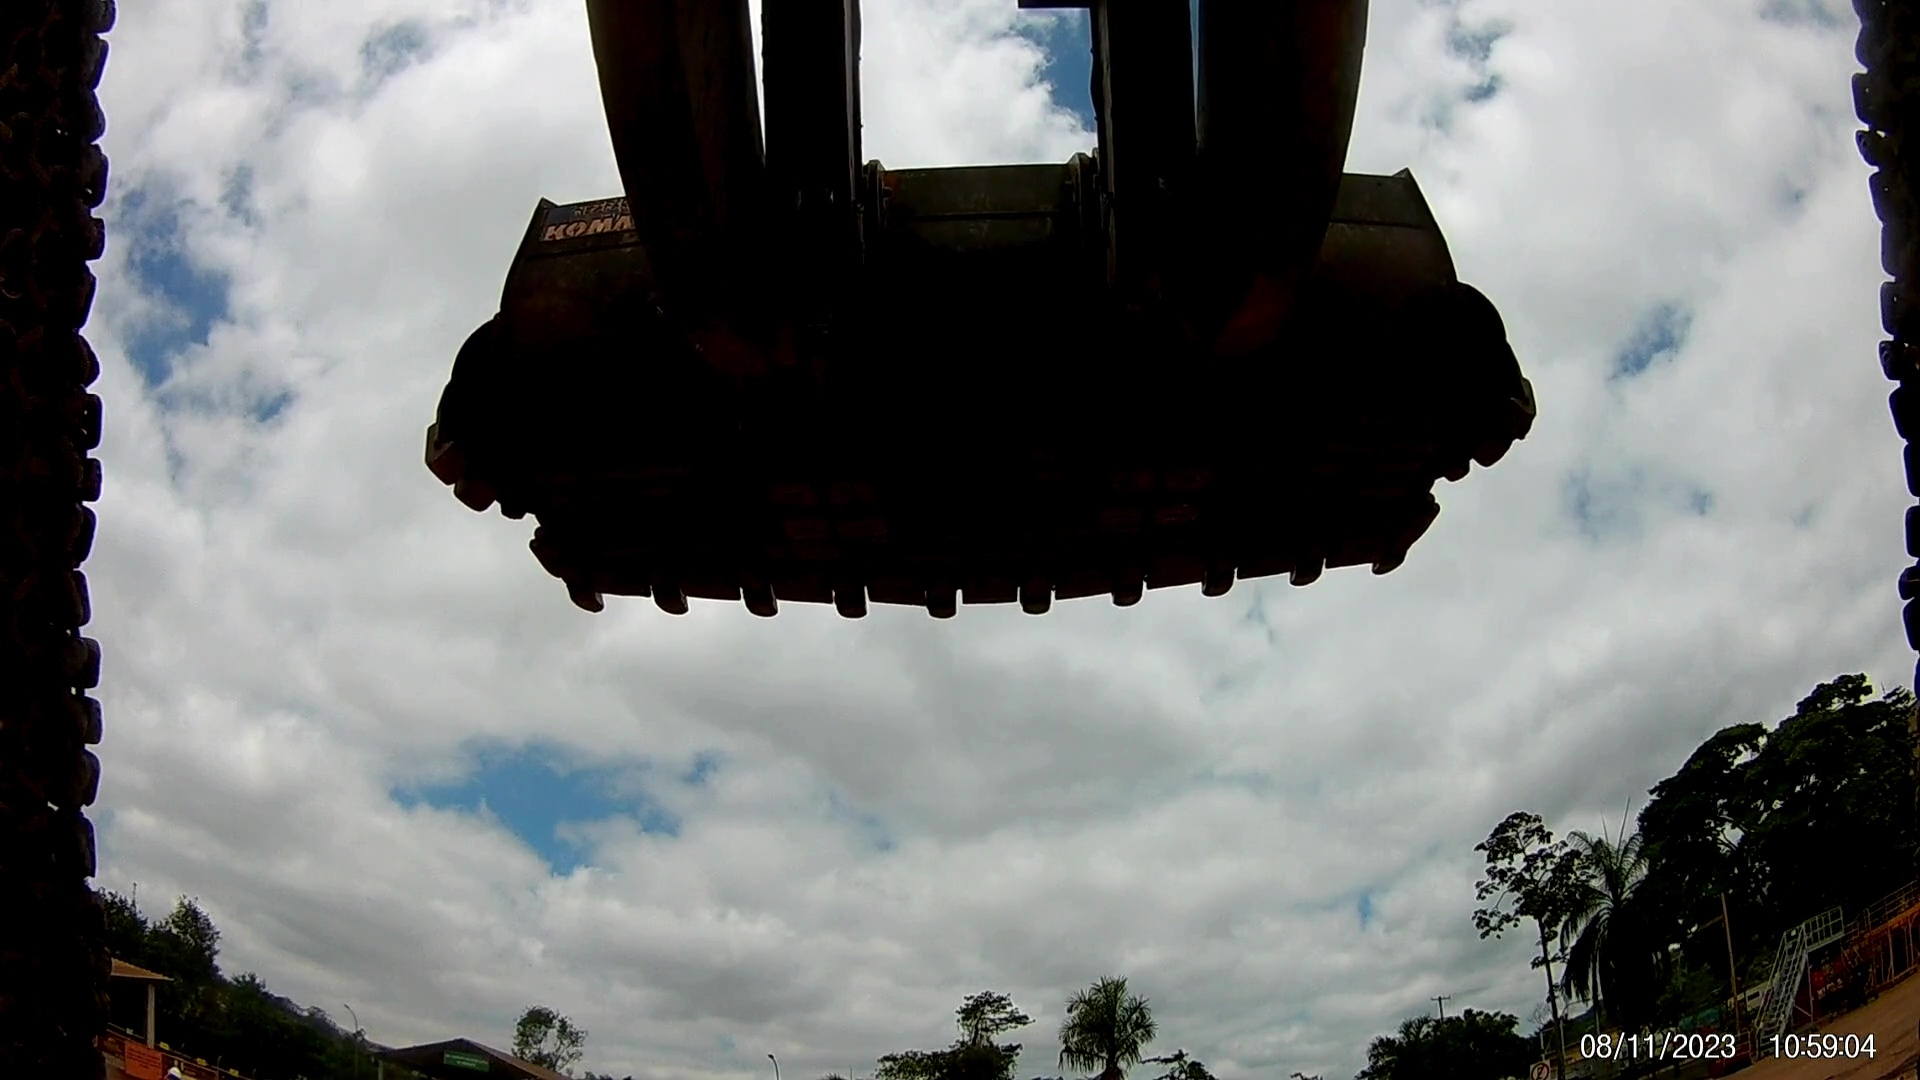FPS: (1013, 560, 1075, 650), (637, 568, 713, 638), (537, 576, 625, 636), (1276, 522, 1337, 605), (1182, 541, 1247, 615), (823, 567, 887, 632), (723, 572, 794, 629), (1108, 553, 1156, 626), (1367, 526, 1425, 588), (923, 572, 973, 638)
